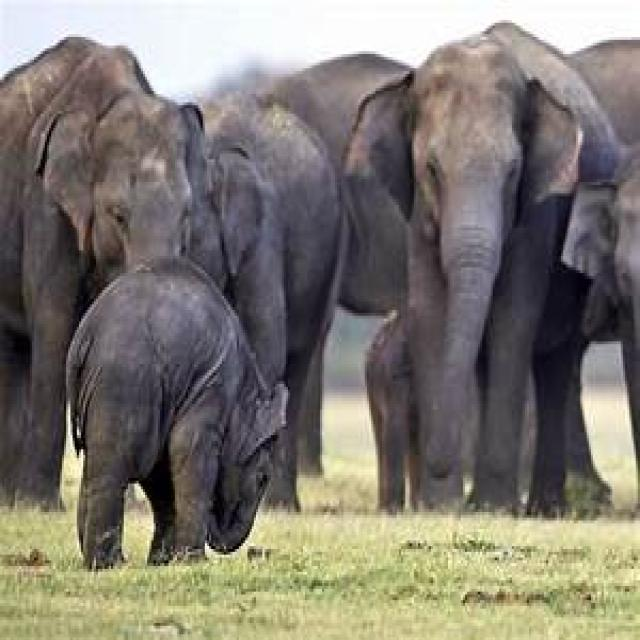elephant: (358, 23, 629, 521), (0, 37, 196, 509), (64, 259, 286, 575), (186, 94, 348, 506)
